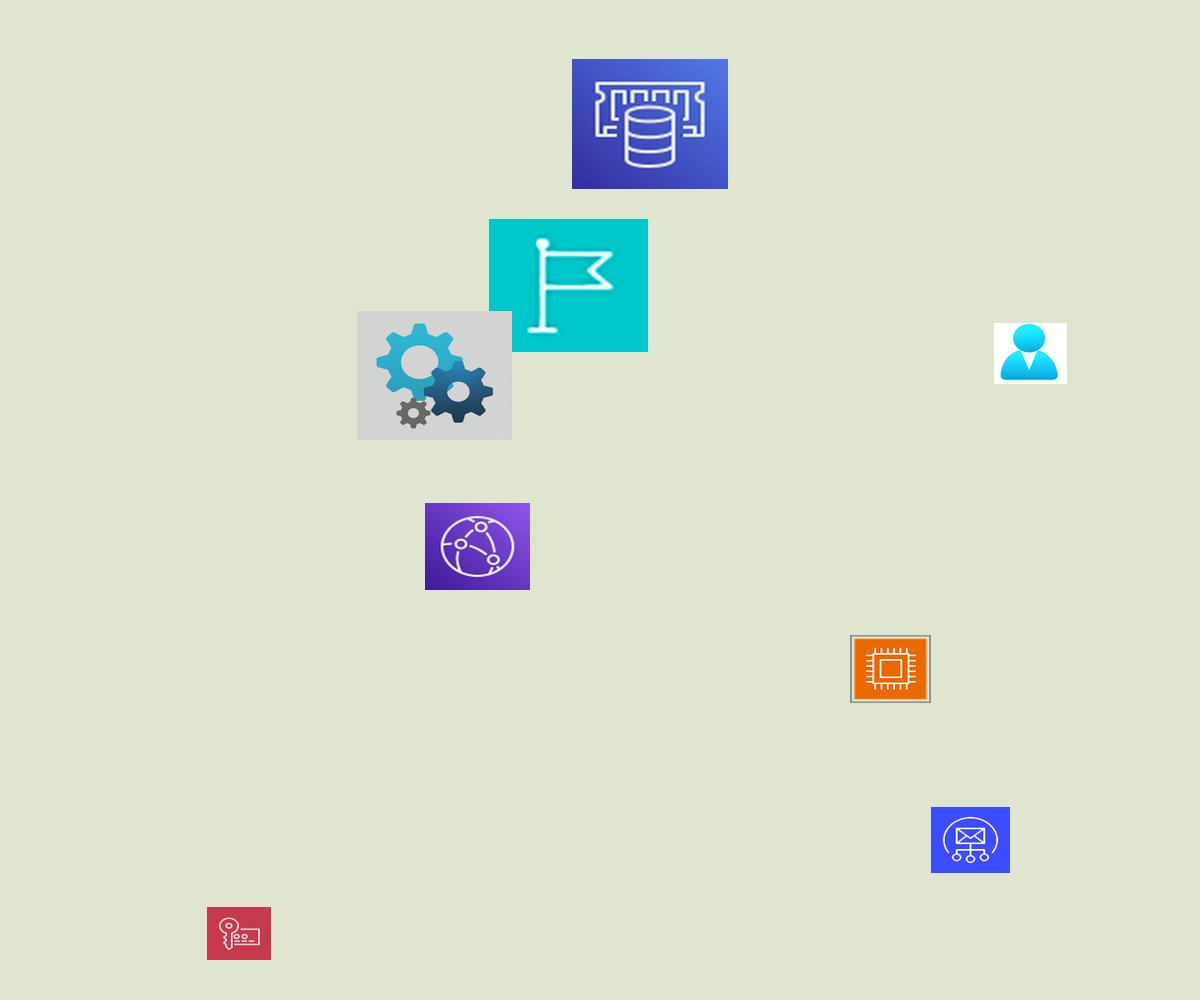AWS-Category_Compute: (850, 635, 931, 703)
AWS-CloudFront: (425, 503, 530, 590)
AWS-ElastiCache: (572, 59, 728, 189)
AWS-Key-Management-Service: (207, 907, 271, 960)
AWS-Region: (489, 219, 648, 352)
AWS-Simple-Email-Service: (931, 807, 1010, 873)
Azure_api: (357, 311, 512, 440)
Azure_users: (994, 323, 1067, 384)
